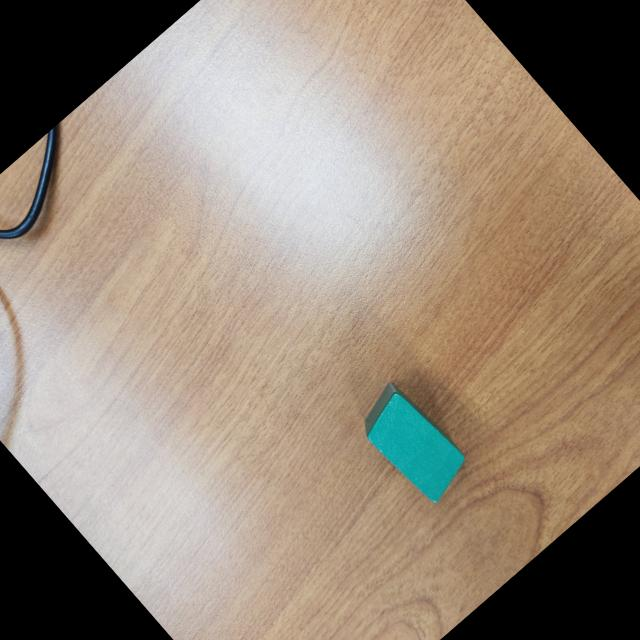green: (348, 374, 478, 509)
